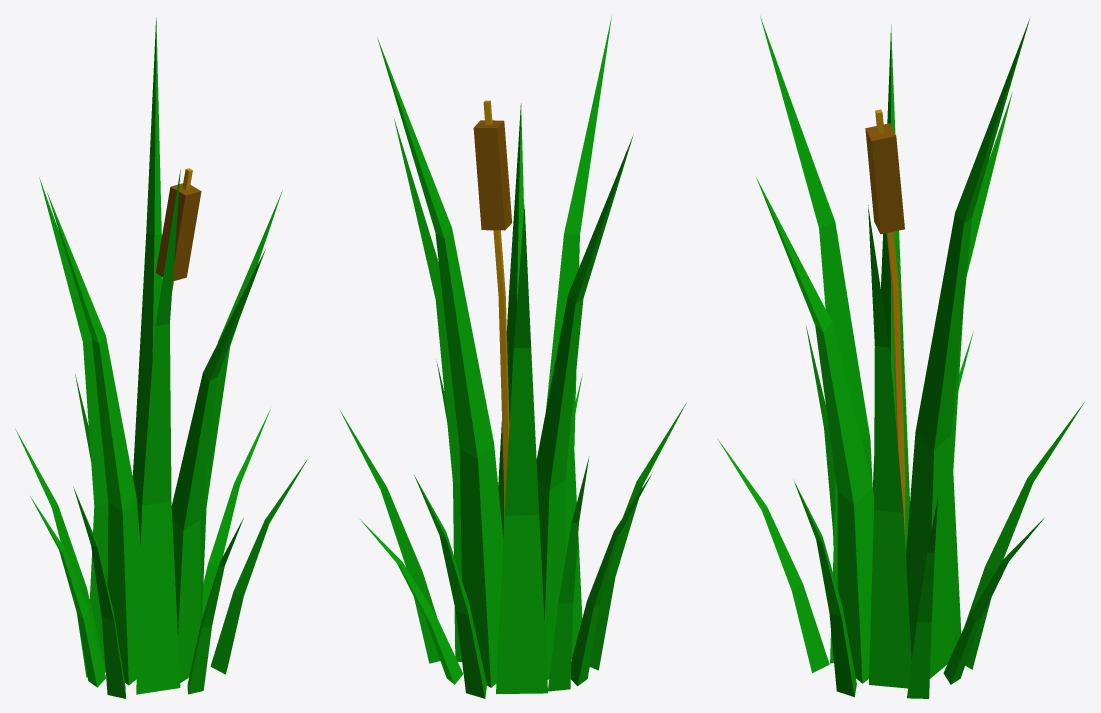
The model's file is WaterGrass2.fbx.
3 renders of one model, left to right at view 1: azimuth 30°, elevation 25°; view 2: azimuth 150°, elevation 25°; view 3: azimuth 270°, elevation 25°, orthographic. The views are drawn at different scales.
Visible parts, largest first — view 1: WaterGrassMesh2; view 2: WaterGrassMesh2; view 3: WaterGrassMesh2.
Part boxes in pixels (x1=…): WaterGrassMesh2: x1=15, y1=18, x2=307, y2=698; WaterGrassMesh2: x1=340, y1=16, x2=686, y2=698; WaterGrassMesh2: x1=718, y1=16, x2=1084, y2=698.
Bounding box in the file's own units: 92.14 × 200 × 97.8.
